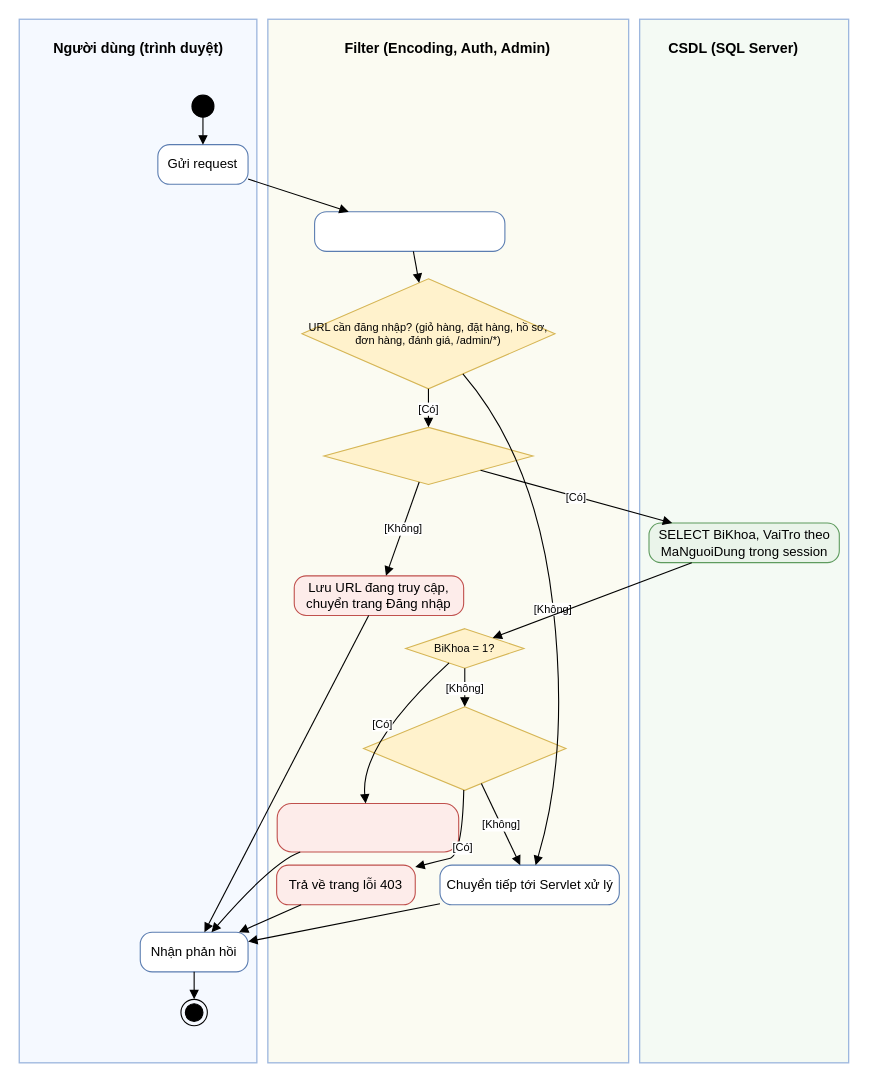
The diagram is 869 pixels wide and 1082 high, and some of its shapes have lost their labels. Each missing label, with the box of its shape:
EncodingFilter: đặt mã hóa UTF-8 cho request/response: (314, 211, 505, 251)
Hủy session, chuyển Đăng nhập + báo tài khoản bị khóa: (276, 802, 459, 852)
Session có người dùng?: (323, 426, 533, 485)
URL /admin/* và VaiTro khác QUAN_TRI?: (362, 706, 566, 790)
